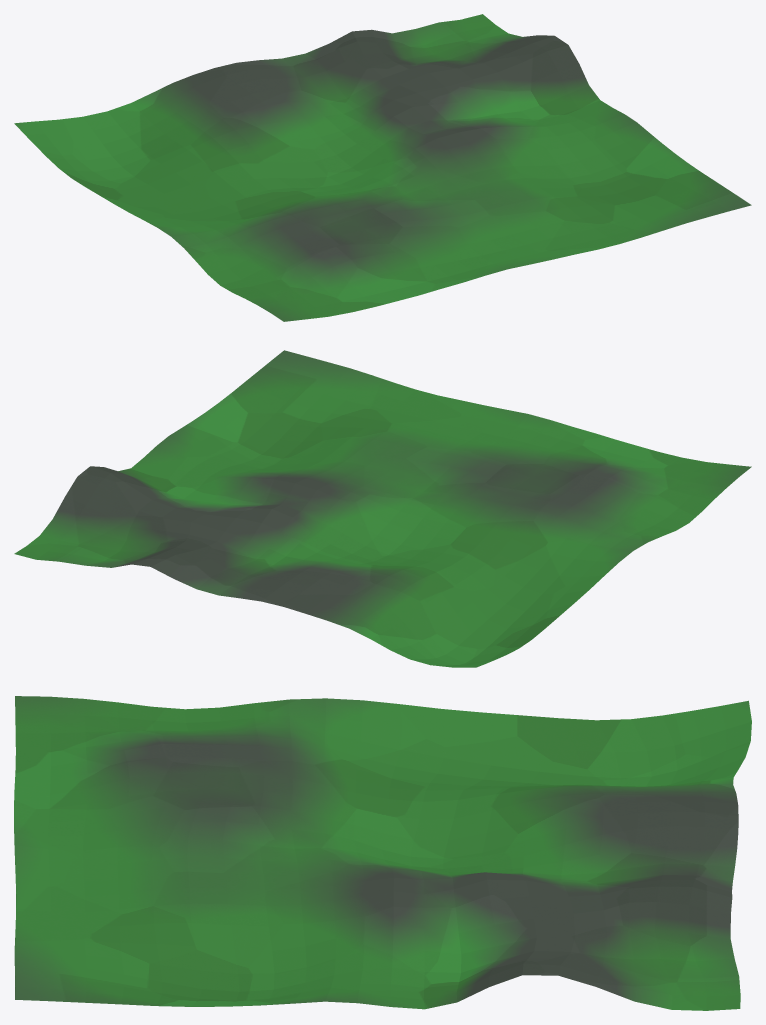
The picture shows the model from 3 angles, top to bottom: view 1: azimuth 30°, elevation 25°; view 2: azimuth 150°, elevation 25°; view 3: azimuth 270°, elevation 25°; orthographic projection. The views are drawn at different scales.
Visible parts, largest first — view 1: Plane_2; view 2: Plane_2; view 3: Plane_2.
Part boxes in pixels (<box>): Plane_2: <box>14,14,751,321</box>; Plane_2: <box>14,350,751,667</box>; Plane_2: <box>14,696,751,1010</box>.
Bounding box in the file's own units: 14.34 × 1.74 × 14.39.
Materials: 1 (1 with a texture image).
